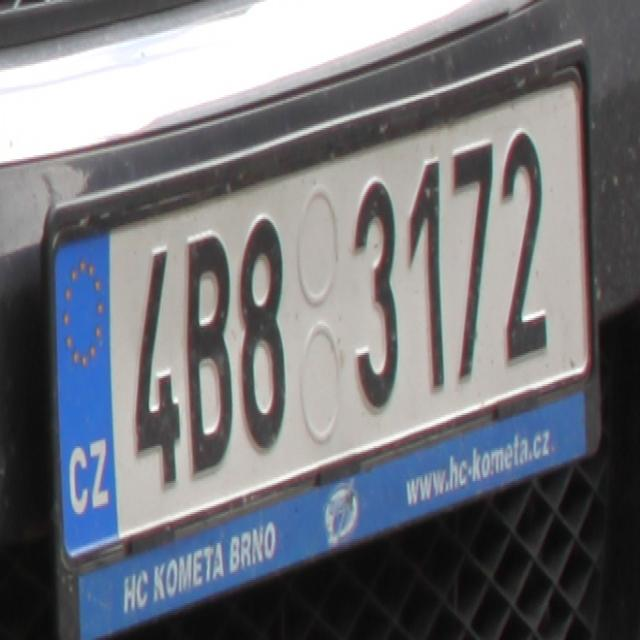1: (409, 159, 447, 392)
2: (500, 124, 552, 372)
3: (354, 173, 399, 415)
4: (129, 240, 180, 485)
7: (447, 134, 498, 386)
8: (236, 213, 288, 450)
B: (185, 233, 233, 473)
